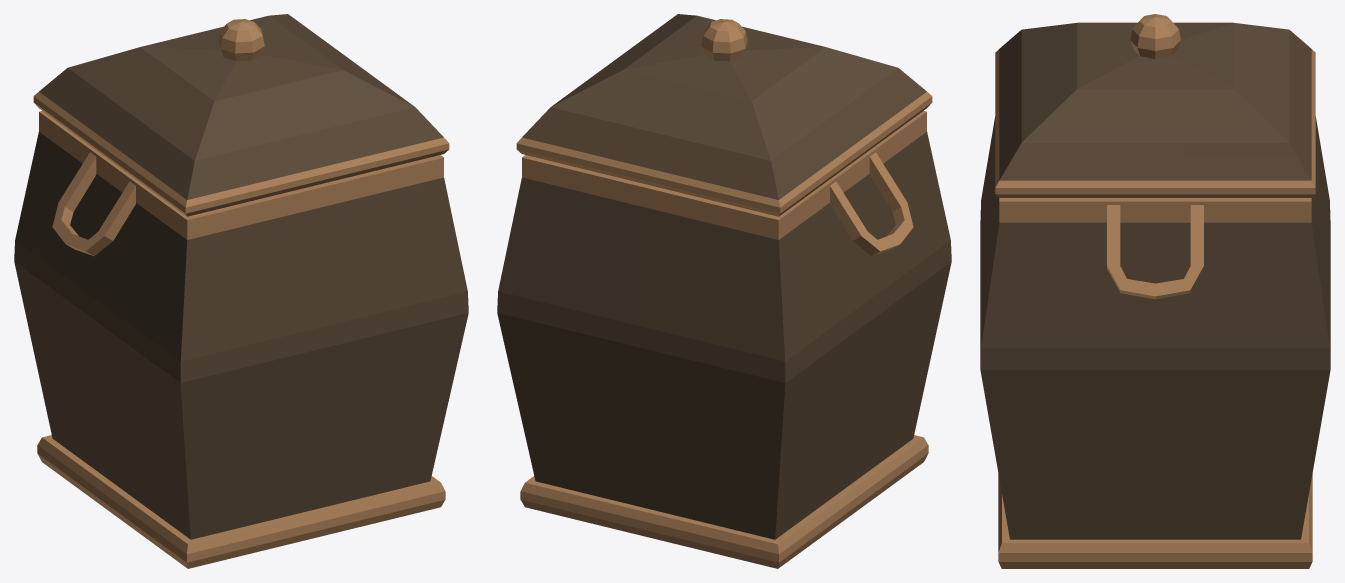
File: SM_Basket_02.glb
The picture shows the model from 3 angles, left to right: view 1: azimuth 30°, elevation 25°; view 2: azimuth 150°, elevation 25°; view 3: azimuth 270°, elevation 25°; orthographic projection. The views are drawn at different scales.
Visible parts, largest first — view 1: SM_Basket_02; view 2: SM_Basket_02; view 3: SM_Basket_02.
Part boxes in pixels (x1=…): SM_Basket_02: x1=14, y1=14, x2=468, y2=568; SM_Basket_02: x1=497, y1=14, x2=951, y2=568; SM_Basket_02: x1=980, y1=14, x2=1330, y2=568.
Size of the model in its own units: 0.5609 by 0.7059 by 0.46.
Materials: 1 (1 with a texture image).
